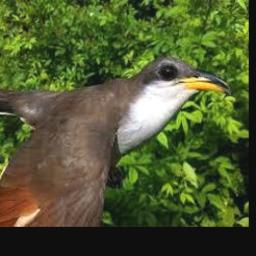Cuckoo: (0, 57, 230, 226)
